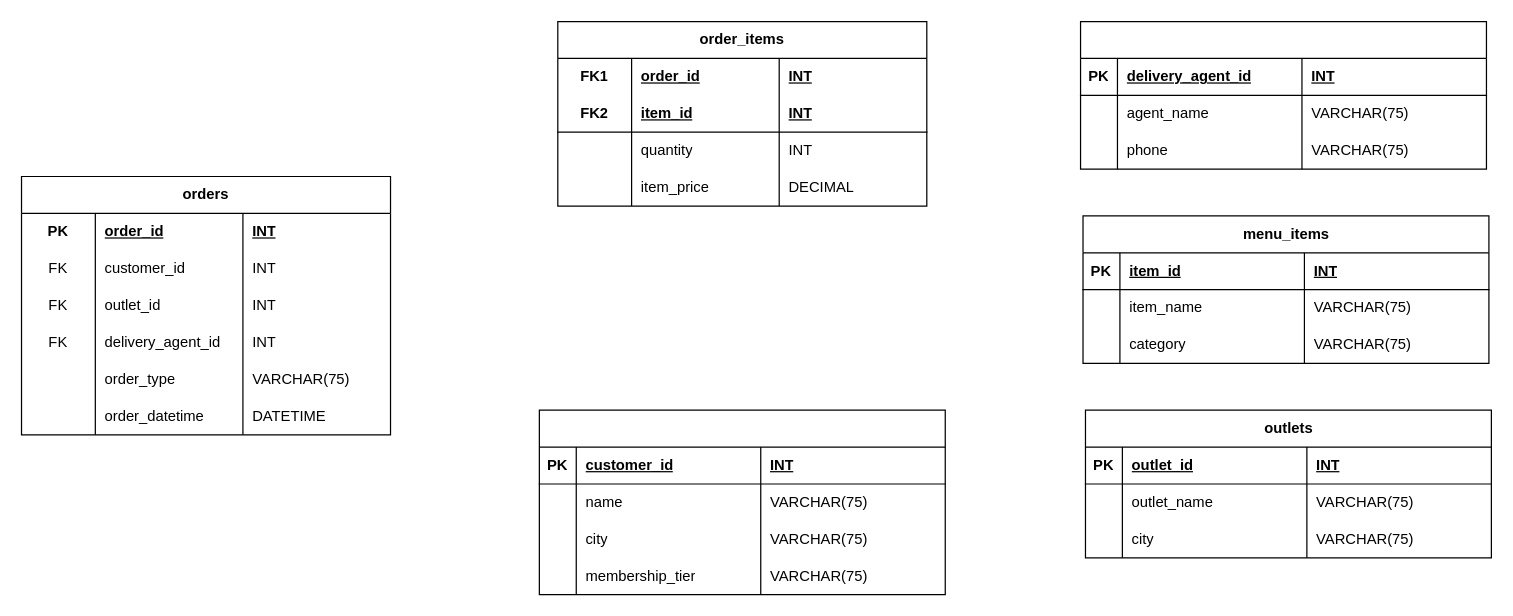
Image size: 1513x616. Some labels were removed from this diagram. The shapes that lost their labels are listed below. From the top down, each one's box as (x1, y1, x2, y2) in pixels, then its label:
(1079, 20, 1486, 169): delivery_agents
(538, 409, 945, 595): customers
